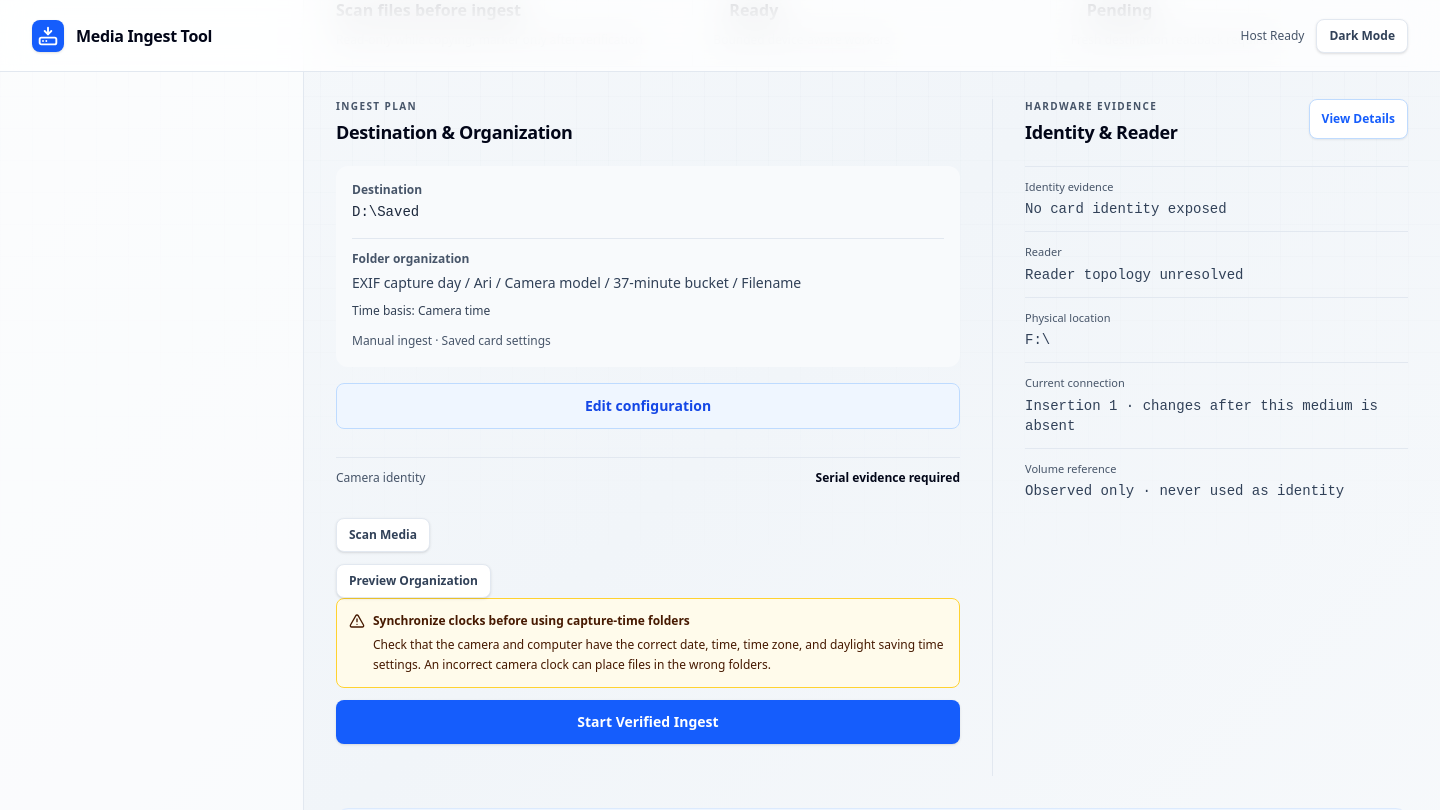
it: loads saved native organization and automation before editing
(page scrolled)
Expected: the text "D:\\Saved" is shown, top-left (352, 204), bottom-right (419, 220)
What coordinates should you click on to do the following:
click the button "Edit configuration"
I would click on:
 (648, 406)
Its box is top-left (336, 382), bottom-right (960, 428).
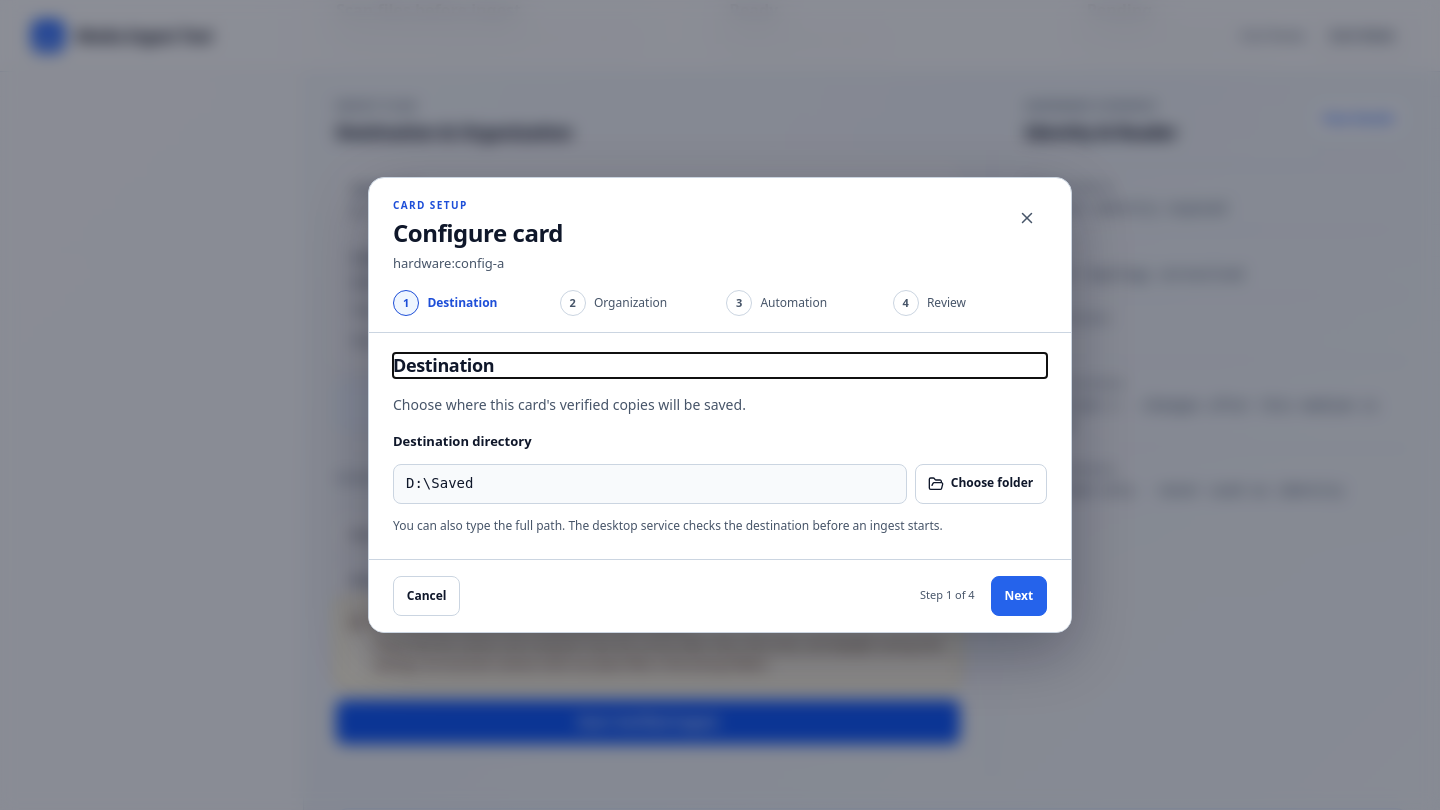
Expected: the field labelled "Destination directory" holds "D:\\Saved", top-left (393, 464), bottom-right (907, 504)
What coordinates should you click on to do the following:
click the button "Next"
I would click on:
 (1019, 596)
Its box is top-left (991, 576), bottom-right (1047, 616).
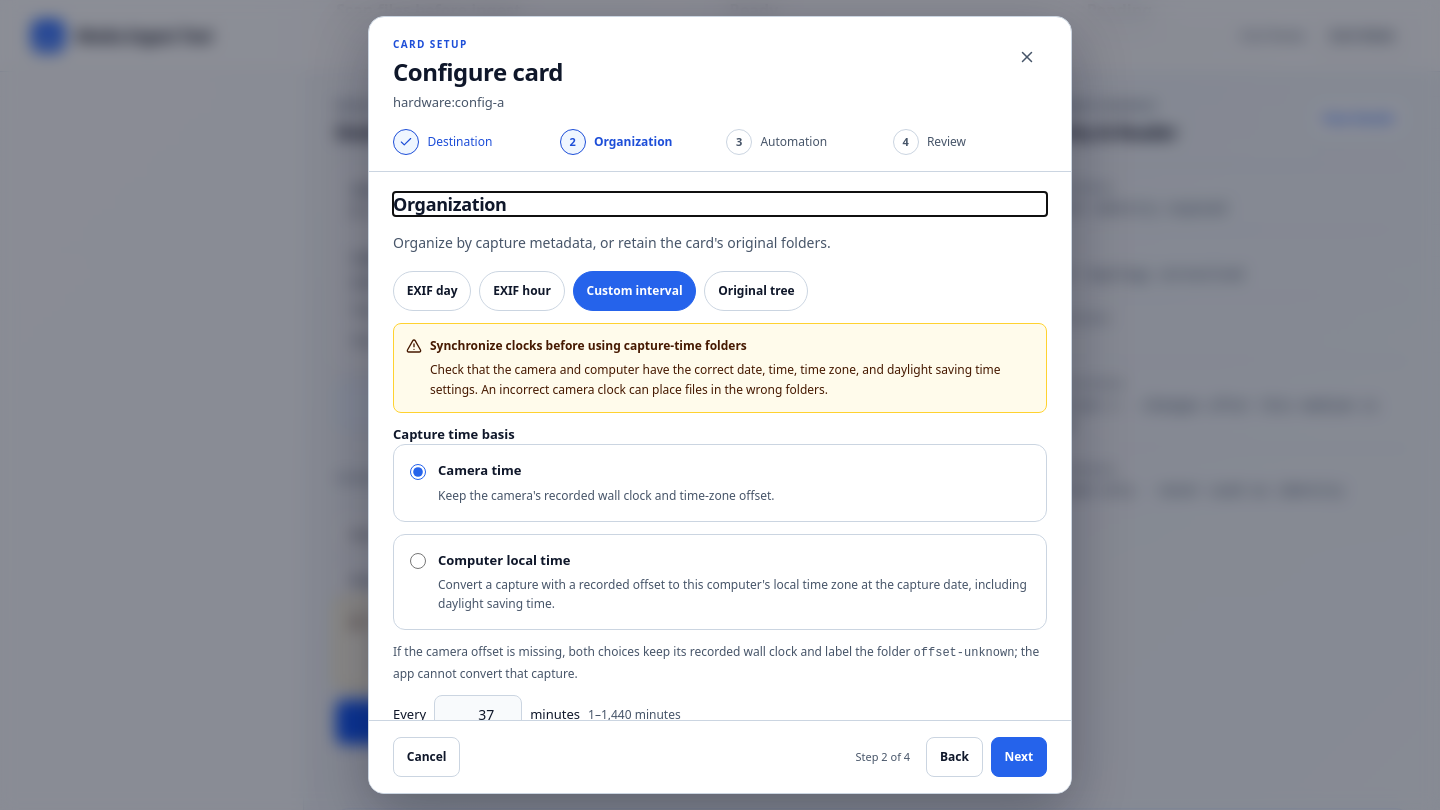
Expected: the number field named "Custom interval minutes" holds "37", top-left (434, 695), bottom-right (522, 720)
Expected: the radio button labelled "Camera time" is checked, top-left (410, 464), bottom-right (426, 480)
What coordinates should you click on to do the following:
click the button "Next"
I would click on:
 (1019, 757)
Its box is top-left (991, 737), bottom-right (1047, 777).
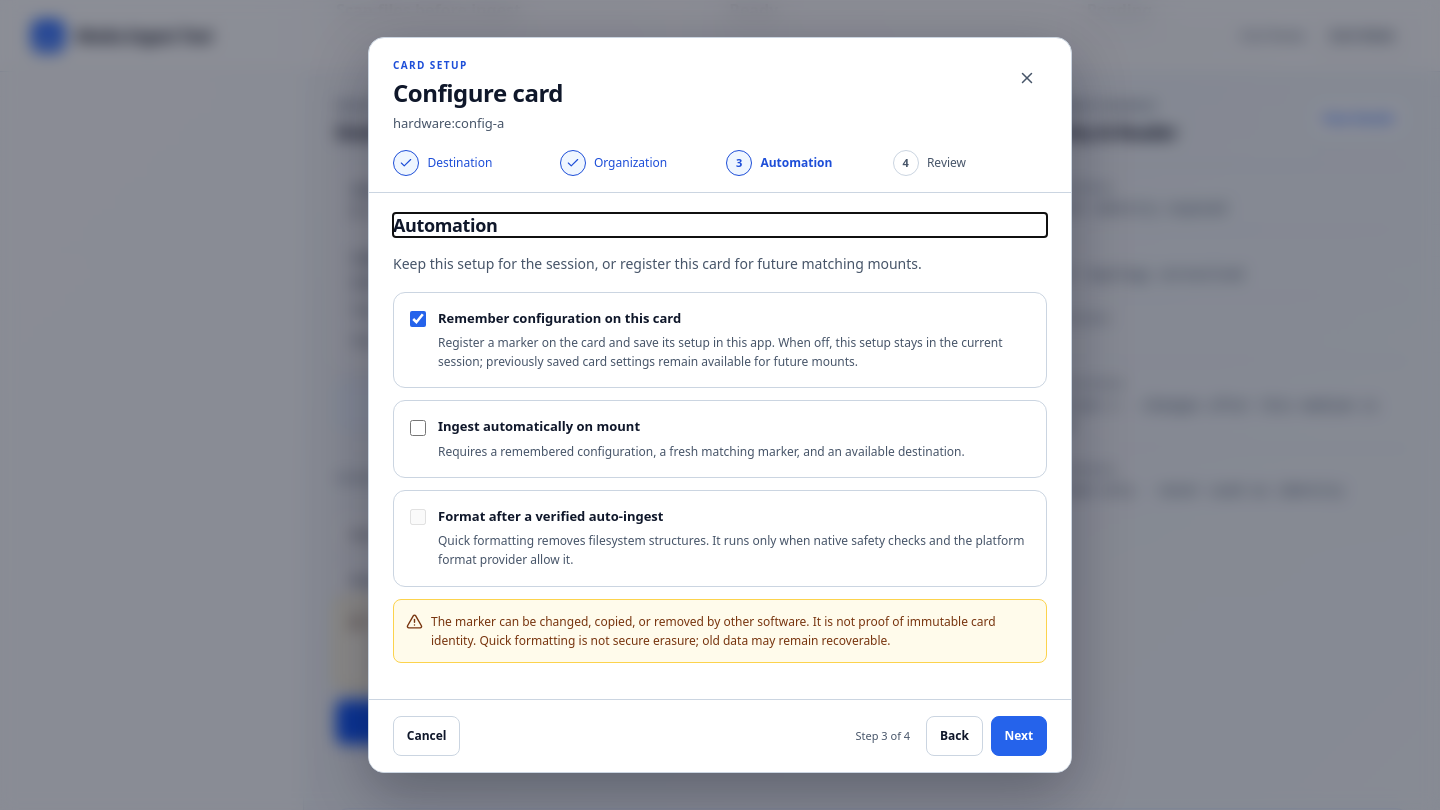
Expected: the checkbox labelled "Remember configuration on this card" is checked, top-left (410, 311), bottom-right (426, 327)
Expected: the checkbox labelled "Ingest automatically on mount" is not checked, top-left (410, 420), bottom-right (426, 436)
